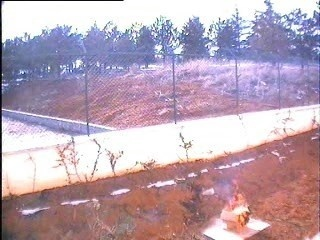fire: (205, 184, 272, 238)
